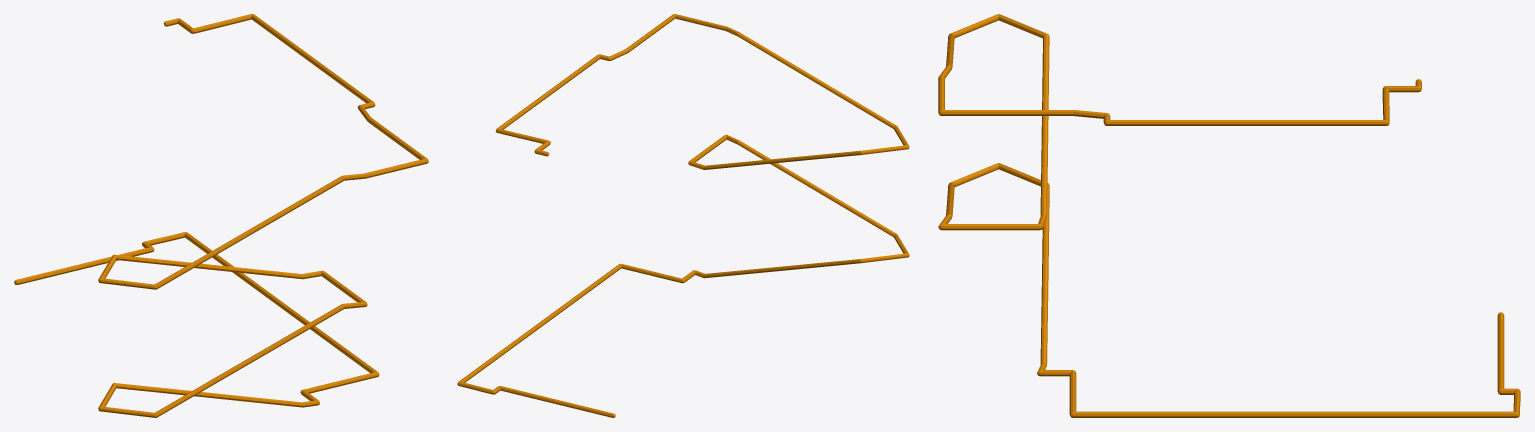
3 views of the same model, side by side, from view 1: azimuth 30°, elevation 25°; view 2: azimuth 150°, elevation 25°; view 3: azimuth 270°, elevation 25° (orthographic). The views are drawn at different scales.
Bounding box in the file's own units: 1319 × 1020 × 1772.
